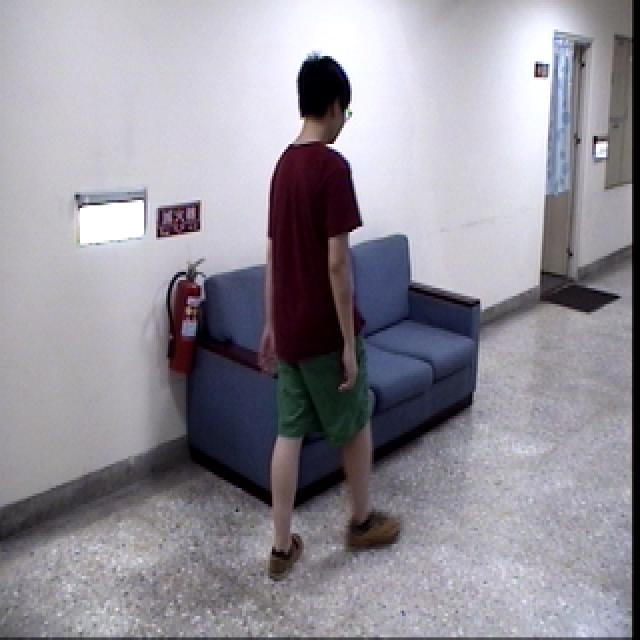stand: (248, 42, 410, 590)
